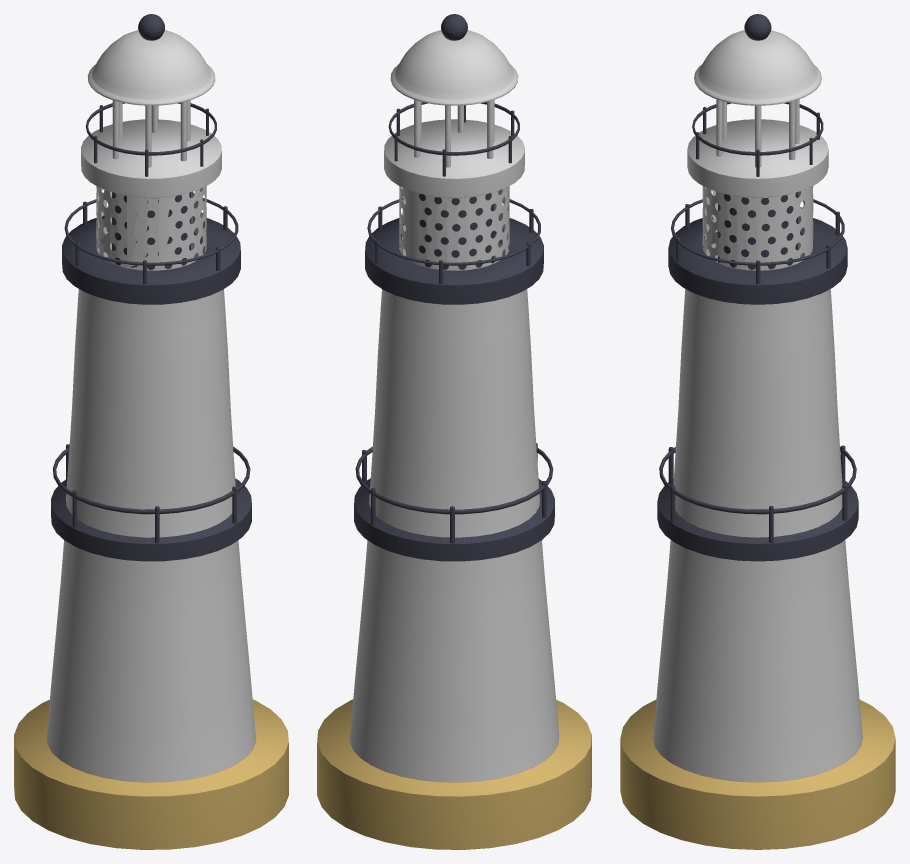
The model's file is Lighthouse.fbx.
3 renders of one model, left to right at view 1: azimuth 30°, elevation 25°; view 2: azimuth 150°, elevation 25°; view 3: azimuth 270°, elevation 25°, orthographic.
Parts seen in each view (by area): view 1: Lighthouse; view 2: Lighthouse; view 3: Lighthouse.
Boxes of the visible parts, <box> form: Lighthouse: <box>14,14,288,849</box>; Lighthouse: <box>317,14,591,849</box>; Lighthouse: <box>620,14,895,849</box>.
Bounding box in the file's own units: 187 × 583 × 187.
